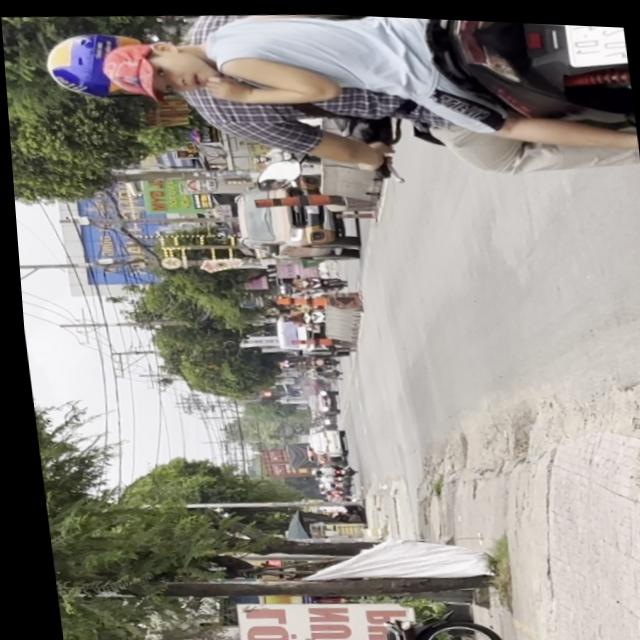helmet: (39, 24, 136, 105)
licenseplate: (34, 1, 640, 206)
motorcyclist: (101, 31, 224, 106)
nohelmet: (560, 20, 627, 61)
